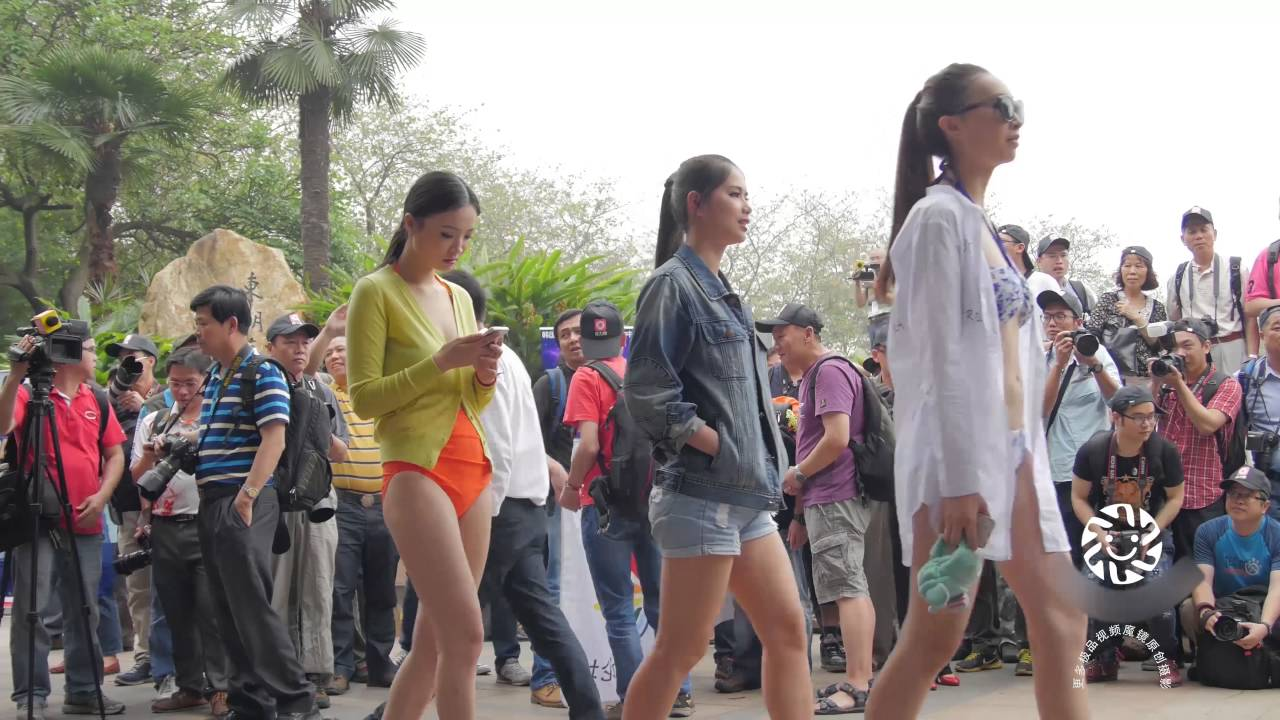face: (912, 60, 1032, 174), (662, 150, 763, 247), (396, 172, 486, 272), (761, 300, 828, 373), (194, 289, 248, 354), (1110, 384, 1160, 446), (1220, 464, 1267, 524), (1164, 319, 1212, 373), (165, 351, 205, 409), (269, 315, 310, 368), (1036, 293, 1079, 342), (551, 308, 590, 362), (1180, 208, 1217, 257), (1115, 242, 1152, 290), (1034, 232, 1071, 277), (1258, 302, 1280, 364), (326, 331, 349, 379)
